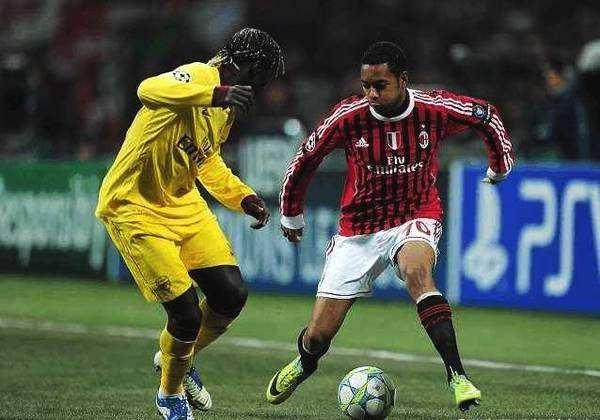football: (335, 365, 397, 420)
